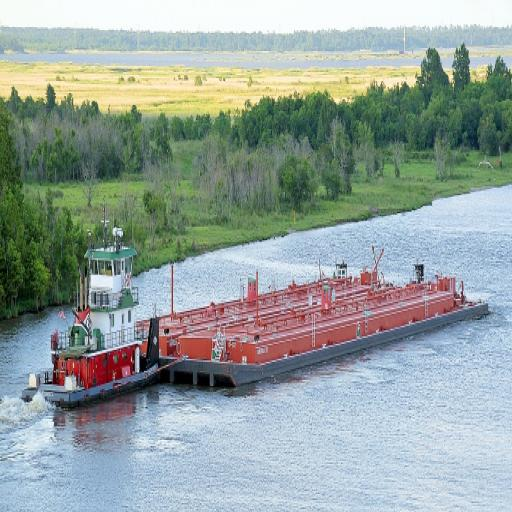tugboat: (19, 198, 171, 420)
